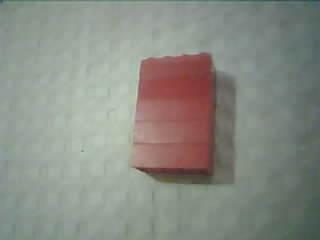lego: (127, 50, 216, 176)
